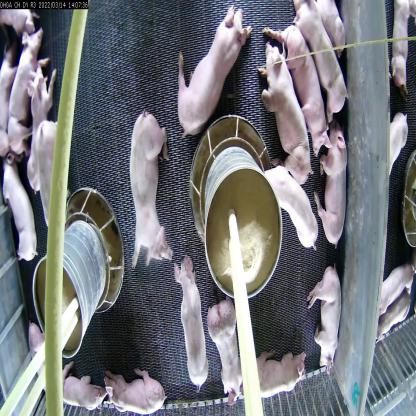Pig: (174, 10, 252, 141), (261, 30, 310, 179), (125, 110, 170, 266), (292, 0, 351, 117), (282, 14, 328, 160), (308, 115, 349, 260), (235, 344, 316, 413), (170, 251, 209, 388), (206, 290, 249, 409), (262, 157, 318, 248), (0, 154, 42, 274), (32, 115, 69, 242), (12, 28, 41, 162), (53, 352, 111, 415), (106, 365, 173, 415), (312, 264, 342, 366)
